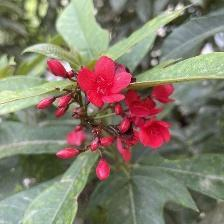jatropha: (80, 57, 134, 108), (122, 86, 160, 130), (140, 118, 174, 149)
